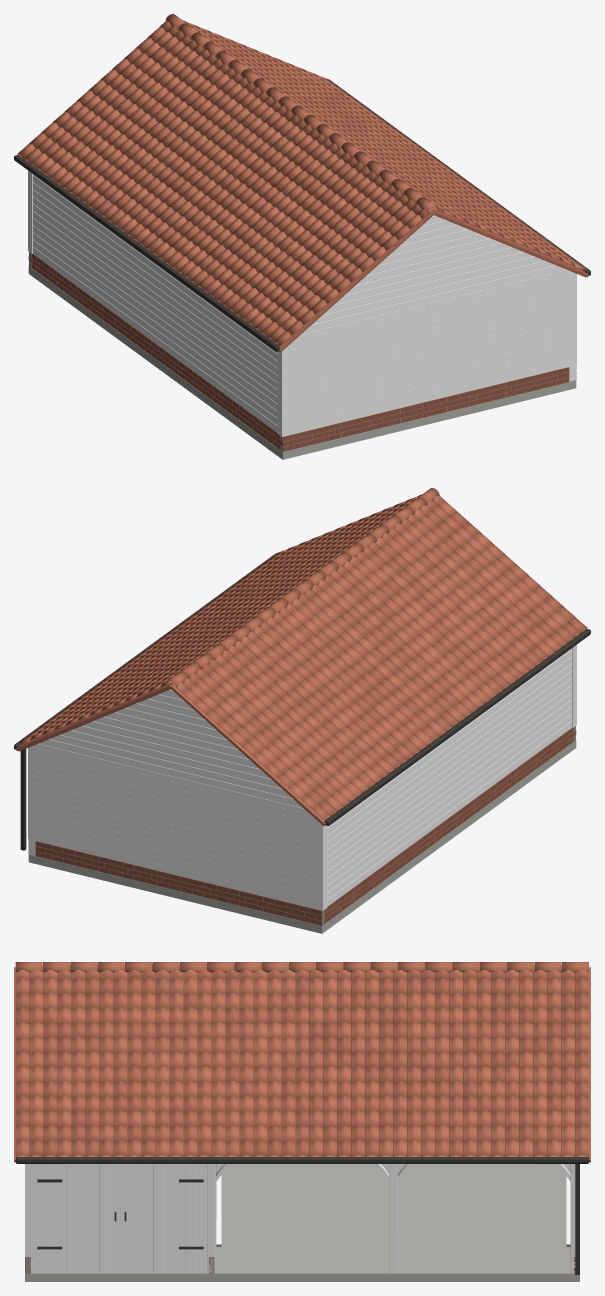
File: garage-V4-review.glb
The picture shows the model from 3 angles, top to bottom: view 1: azimuth 30°, elevation 25°; view 2: azimuth 150°, elevation 25°; view 3: azimuth 270°, elevation 25°; orthographic projection. The views are drawn at different scales.
Parts seen in each view (by area): view 1: Red pantiles rear - illustrative profile, Red pantiles front - illustrative profile, Floor visual only, Red profiled ridge caps, Dark gutter - illustrative.001, Continuous outer end weatherboard, Continuous outer end weatherboard.005, Continuous outer end weatherboard.010, Continuous outer end weatherboard.001, Continuous outer end weatherboard.002, Continuous outer end weatherboard.003, Continuous outer end weatherboard.004 (+31 smaller); view 2: Red pantiles rear - illustrative profile, Red pantiles front - illustrative profile, Floor visual only, Red profiled ridge caps, Dark gutter - illustrative.001, Continuous outer end weatherboard.025, Continuous outer end weatherboard.014, Continuous outer end weatherboard.019, Continuous outer end weatherboard.020, Continuous outer end weatherboard.022, Continuous outer end weatherboard.015, Continuous outer end weatherboard.016 (+32 smaller); view 3: Red pantiles front - illustrative profile, Floor visual only, Red profiled ridge caps, Dark gutter - illustrative, Proposed roof, Door vertical board.003, Door vertical board.004, Door vertical board.005, Door vertical board.006, Door vertical board.009, Door vertical board.010, Door vertical board.011 (+17 smaller).
Part boxes in pixels (x1,y1,x2,y2): Red pantiles rear - illustrative profile: [17, 21, 433, 345]; Red pantiles front - illustrative profile: [183, 20, 587, 271]; Floor visual only: [28, 266, 576, 459]; Red profiled ridge caps: [165, 14, 439, 213]; Dark gutter - illustrative.001: [14, 155, 280, 351]; Continuous outer end weatherboard: [283, 358, 576, 436]; Continuous outer end weatherboard.005: [283, 322, 576, 400]; Continuous outer end weatherboard.010: [283, 286, 576, 364]; Continuous outer end weatherboard.001: [283, 351, 576, 429]; Continuous outer end weatherboard.002: [283, 344, 576, 422]; Continuous outer end weatherboard.003: [283, 336, 576, 415]; Continuous outer end weatherboard.004: [283, 329, 576, 407]; Red pantiles rear - illustrative profile: [171, 495, 587, 819]; Red pantiles front - illustrative profile: [17, 494, 421, 745]; Floor visual only: [28, 740, 576, 933]; Red profiled ridge caps: [165, 488, 439, 687]; Dark gutter - illustrative.001: [324, 629, 590, 825]; Continuous outer end weatherboard.025: [28, 753, 321, 831]; Continuous outer end weatherboard.014: [28, 832, 321, 910]; Continuous outer end weatherboard.019: [28, 796, 321, 874]; Continuous outer end weatherboard.020: [28, 789, 321, 867]; Continuous outer end weatherboard.022: [28, 775, 321, 853]; Continuous outer end weatherboard.015: [28, 825, 321, 903]; Continuous outer end weatherboard.016: [28, 818, 321, 896]; Red pantiles front - illustrative profile: [15, 963, 589, 1156]; Floor visual only: [25, 1164, 579, 1281]; Red profiled ridge caps: [15, 962, 588, 972]; Dark gutter - illustrative: [15, 1157, 589, 1163]; Proposed roof: [15, 973, 589, 1157]; Door vertical board.003: [66, 1164, 77, 1271]; Door vertical board.004: [77, 1164, 87, 1271]; Door vertical board.005: [88, 1164, 98, 1271]; Door vertical board.006: [99, 1164, 109, 1271]; Door vertical board.009: [131, 1164, 141, 1271]; Door vertical board.010: [142, 1164, 152, 1271]; Door vertical board.011: [153, 1164, 163, 1271].
Size of the model in its own units: 6.45 by 4.31 by 9.36.
